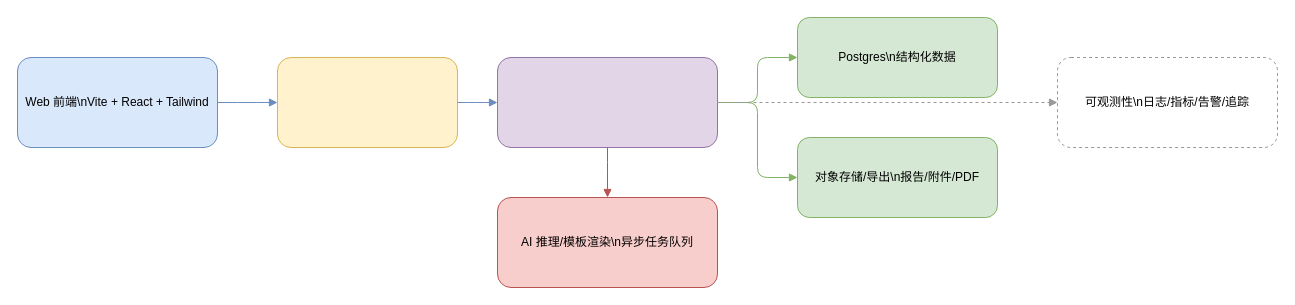
This 1295x305 diagram has some shape labels left out. Each missing label, with the box of its shape:
BFF / API 层\n业务编排/权限/审计: (496, 56, 718, 148)
鉴权\nSupabase Auth: (276, 56, 458, 148)
